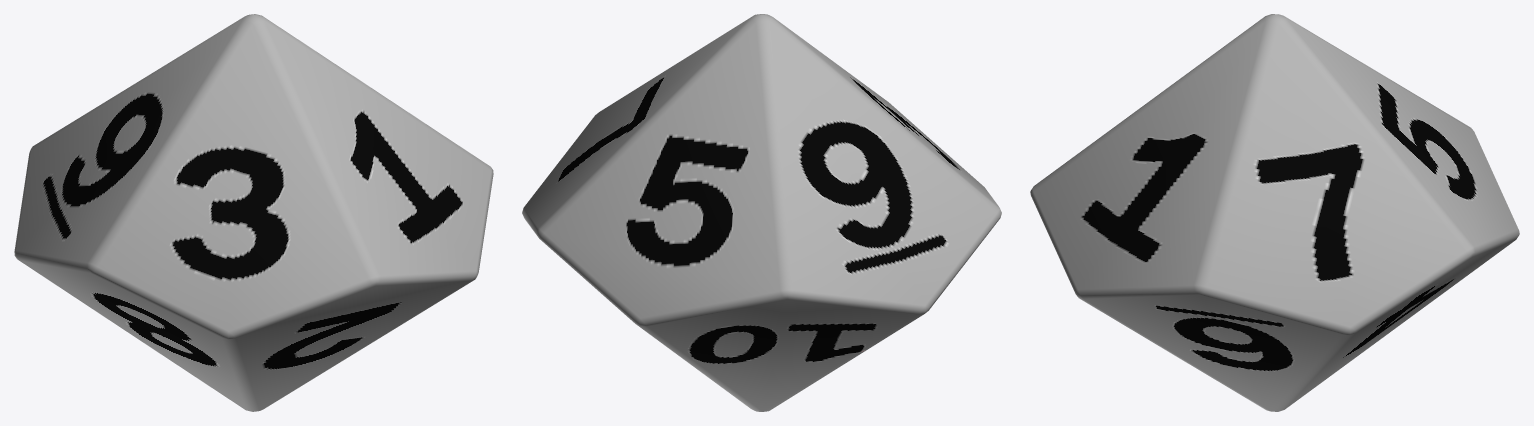
3 renders of one model, left to right at view 1: azimuth 30°, elevation 25°; view 2: azimuth 150°, elevation 25°; view 3: azimuth 270°, elevation 25°, orthographic.
Parts seen in each view (by area): view 1: 10Silver_10Silver_0; view 2: 10Silver_10Silver_0; view 3: 10Silver_10Silver_0.
Boxes of the visible parts, x1=… form: 10Silver_10Silver_0: x1=14, y1=14, x2=493, y2=411; 10Silver_10Silver_0: x1=522, y1=14, x2=1001, y2=411; 10Silver_10Silver_0: x1=1030, y1=14, x2=1519, y2=411.
Bounding box in the file's own units: 1.51 × 1.41 × 1.58.
1 material, 1 textured.
